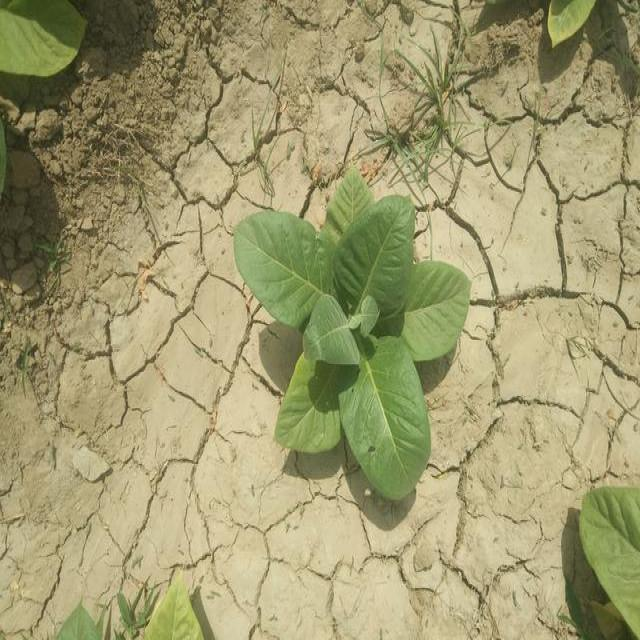crop: (234, 170, 466, 506), (573, 485, 639, 640), (56, 580, 202, 640), (0, 0, 76, 85), (536, 0, 600, 50)
